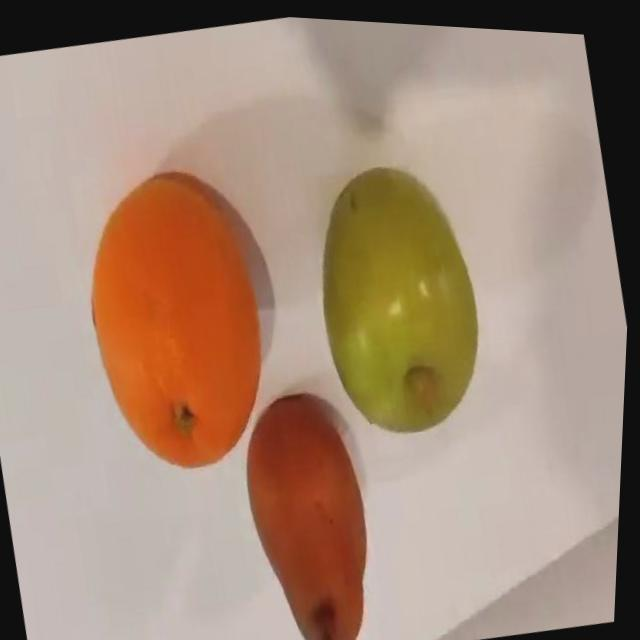Apple: (293, 141, 510, 448)
Orange: (63, 154, 294, 483)
